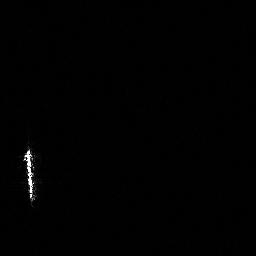ship: (19, 144, 42, 206)
